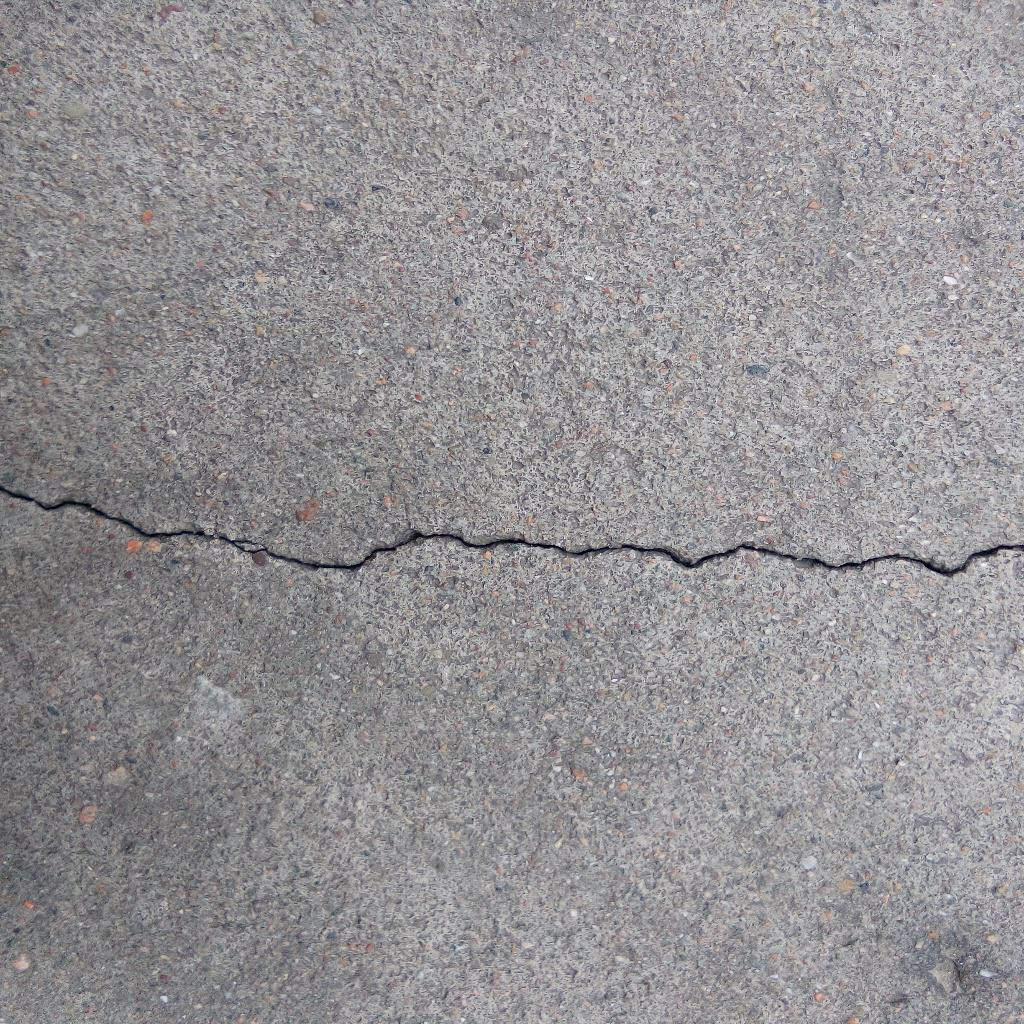Crack: (1, 481, 1024, 578)
